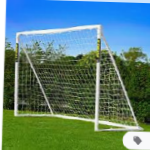goals: (12, 23, 144, 131)
